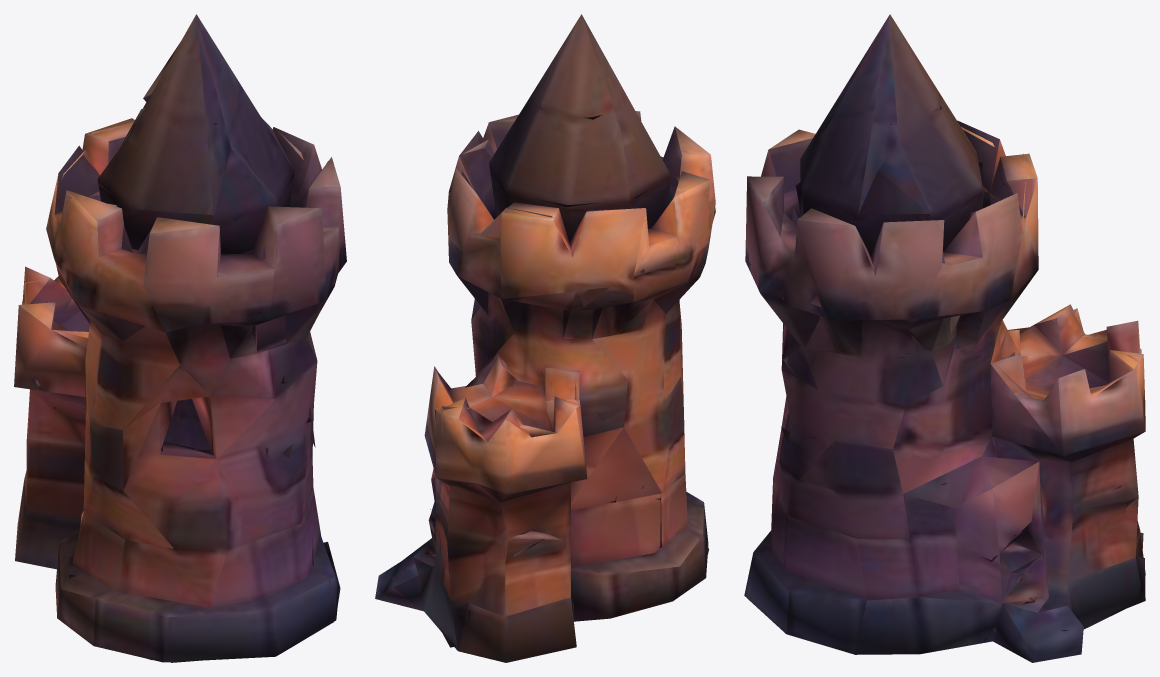
Rendered from lg-castle-corner-tower.glb.
3 views of the same model, side by side, from view 1: azimuth 30°, elevation 25°; view 2: azimuth 150°, elevation 25°; view 3: azimuth 270°, elevation 25° (orthographic). The views are drawn at different scales.
Visible parts, largest first — view 1: geometry_0; view 2: geometry_0; view 3: geometry_0.
Part boxes in pixels (<box>): geometry_0: <box>14,14,346,662</box>; geometry_0: <box>375,14,715,662</box>; geometry_0: <box>744,14,1145,662</box>.
Bounding box in the file's own units: 0.4814 × 1 × 0.6211.
1 material, 1 textured.
